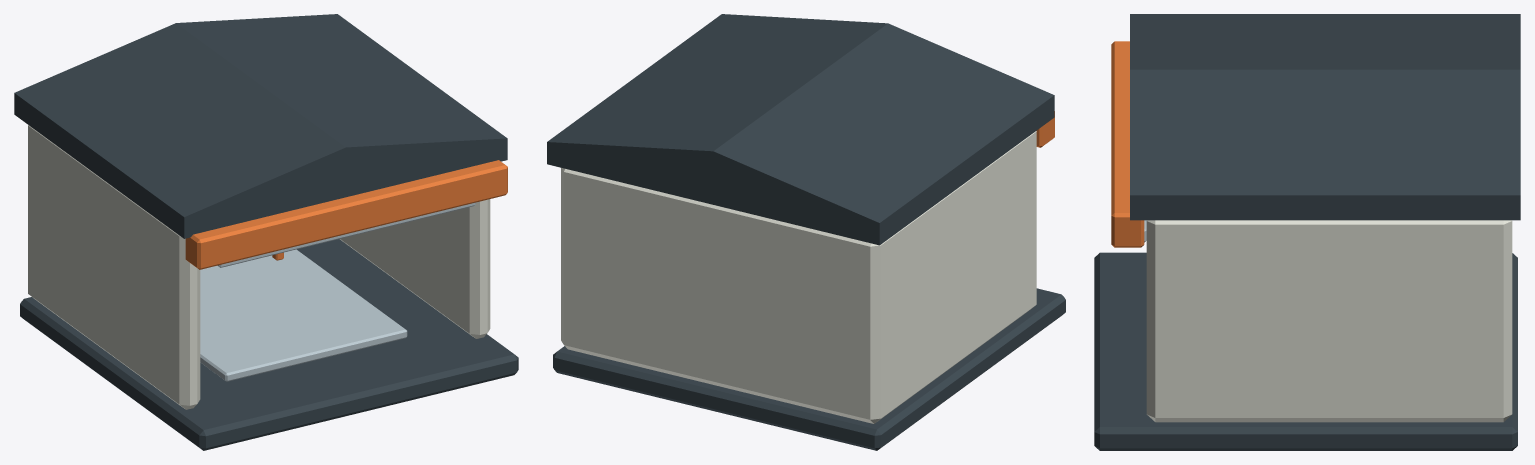
The model's file is roverbay.glb.
The picture shows the model from 3 angles, left to right: view 1: azimuth 30°, elevation 25°; view 2: azimuth 150°, elevation 25°; view 3: azimuth 270°, elevation 25°; orthographic projection. The views are drawn at different scales.
Parts seen in each view (by area): view 1: roverbay_dark, roverbay_ivory, roverbay_metal, roverbay_orange; view 2: roverbay_dark, roverbay_ivory; view 3: roverbay_dark, roverbay_ivory, roverbay_orange.
Boxes of the visible parts, box(x1,y1,x2,y2) form: roverbay_dark: box(14, 14, 518, 450); roverbay_ivory: box(28, 125, 490, 409); roverbay_metal: box(200, 202, 475, 381); roverbay_orange: box(185, 160, 507, 269); roverbay_dark: box(547, 14, 1065, 450); roverbay_ivory: box(561, 131, 1036, 423); roverbay_dark: box(1094, 14, 1520, 450); roverbay_ivory: box(1146, 220, 1512, 422); roverbay_orange: box(1111, 41, 1144, 247).
Size of the model in its own units: 3.9 by 2.95 by 3.88.
